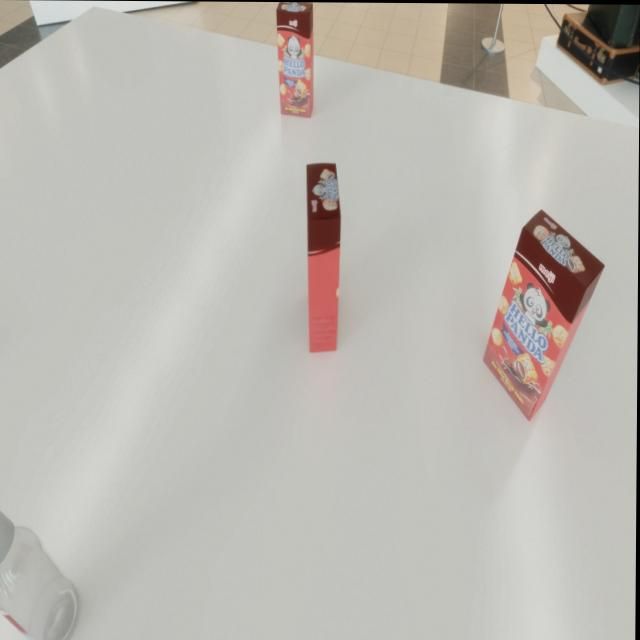Bottle: (0, 468, 81, 640)
HelloPanda: (483, 208, 606, 421), (305, 162, 342, 352), (275, 2, 314, 117)
